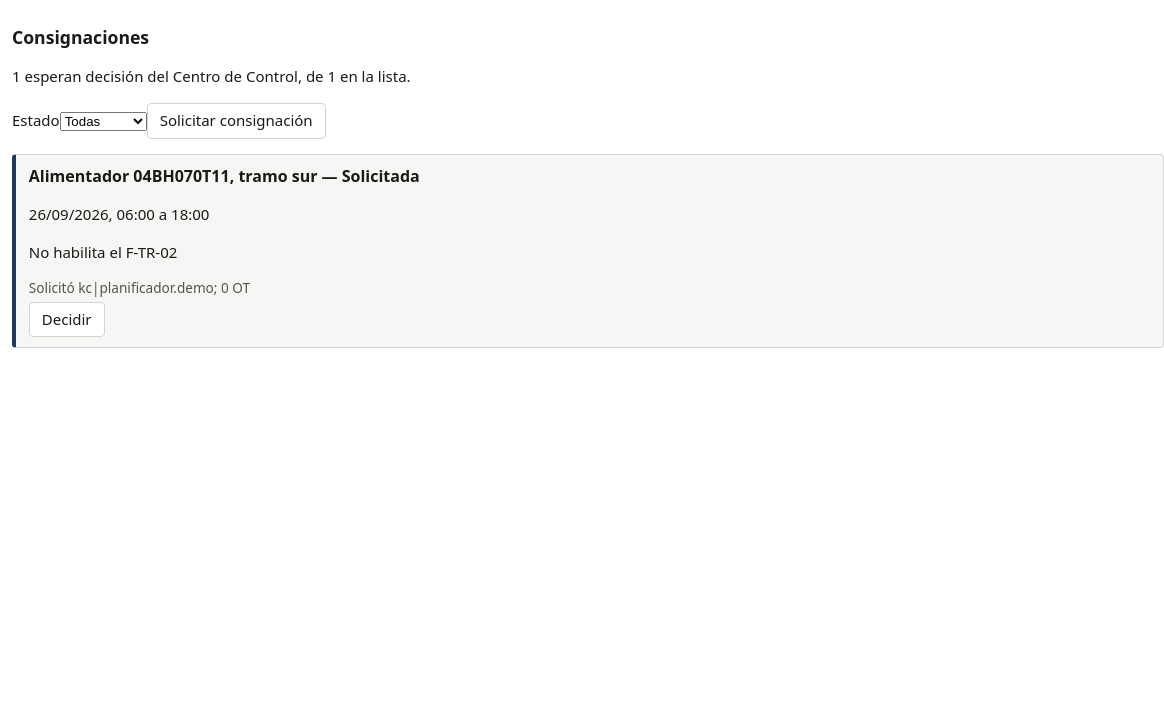
Test: decidir una consignación › no otorga sin número: el número es la autoridad
The width and height of the screenshot is (1164, 720).
Later steps or results of the test are not shown.
Click the button "Decidir" at (67, 320), box [29,302,105,338]
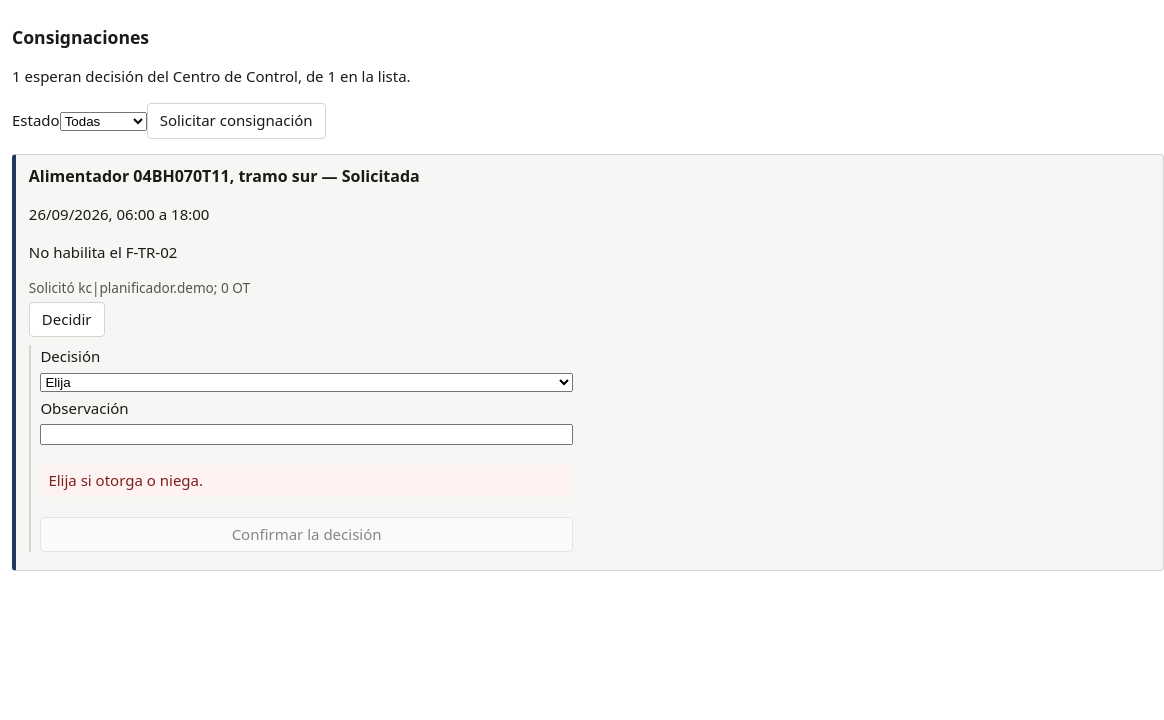
Select "Otorgar" in the dropdown labelled "Decisión" at (307, 382), box [40,373,573,392]
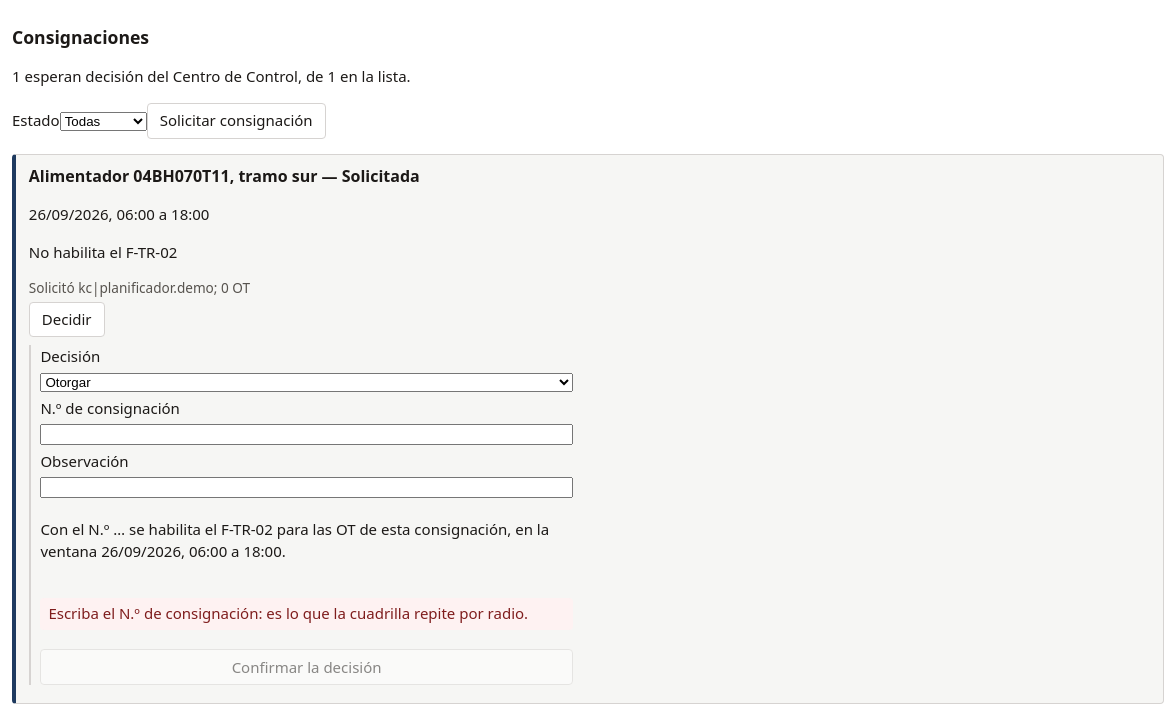
Now the button "Confirmar la decisión" is disabled, box [40,649,573,685]
